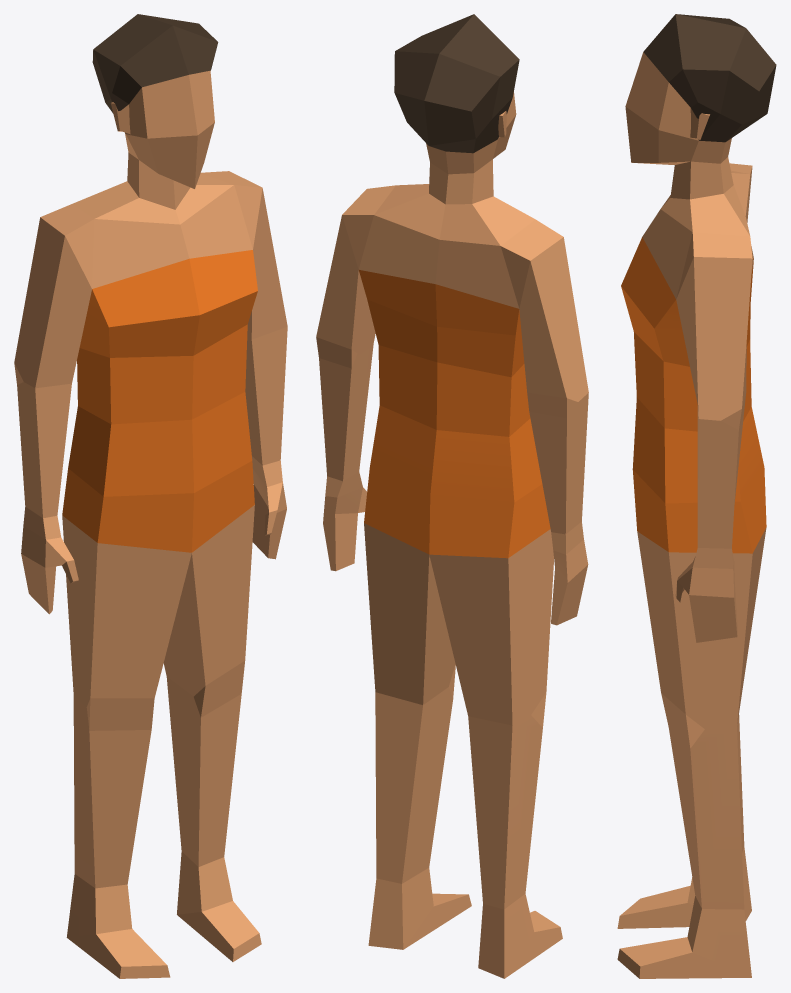
The model's file is people_woman-swimming.fbx.
The picture shows the model from 3 angles, left to right: view 1: azimuth 30°, elevation 25°; view 2: azimuth 150°, elevation 25°; view 3: azimuth 270°, elevation 25°; orthographic projection.
Parts seen in each view (by area): view 1: people_woman_swimming; view 2: people_woman_swimming; view 3: people_woman_swimming.
Boxes of the visible parts, bbox=[...] form: people_woman_swimming: bbox=[14, 14, 287, 978]; people_woman_swimming: bbox=[316, 14, 588, 978]; people_woman_swimming: bbox=[617, 14, 776, 978].
Size of the model in its own units: 57.23 by 199 by 30.88.
